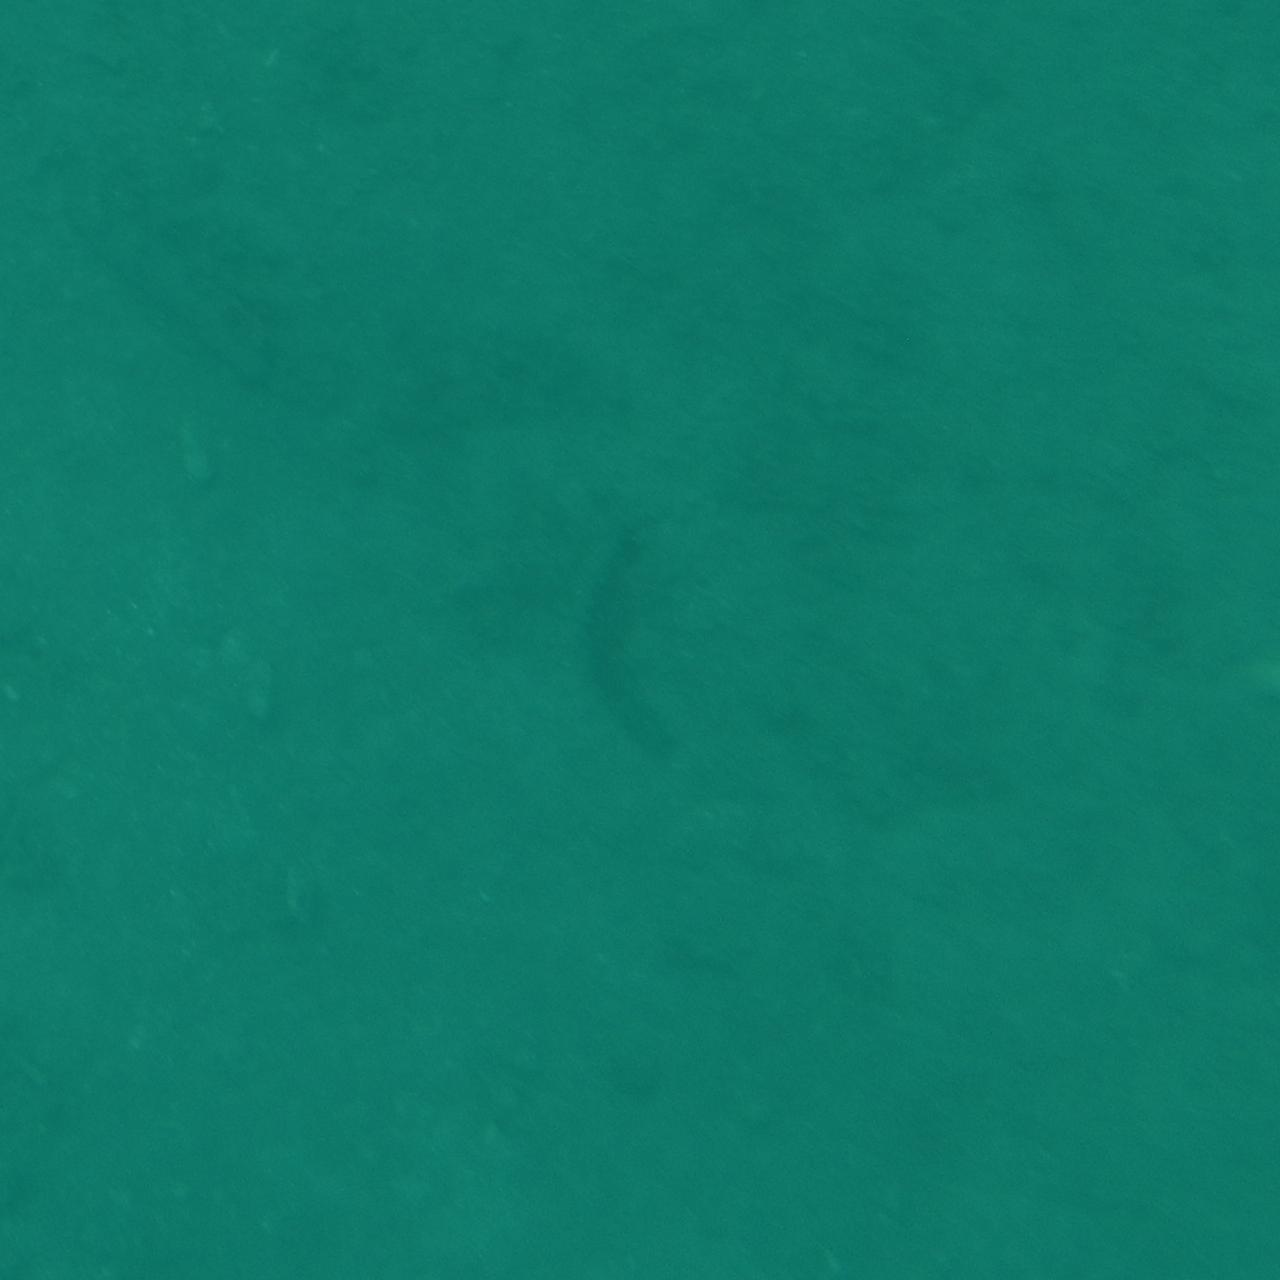Holothuria tubulosa: (576, 490, 704, 790)
